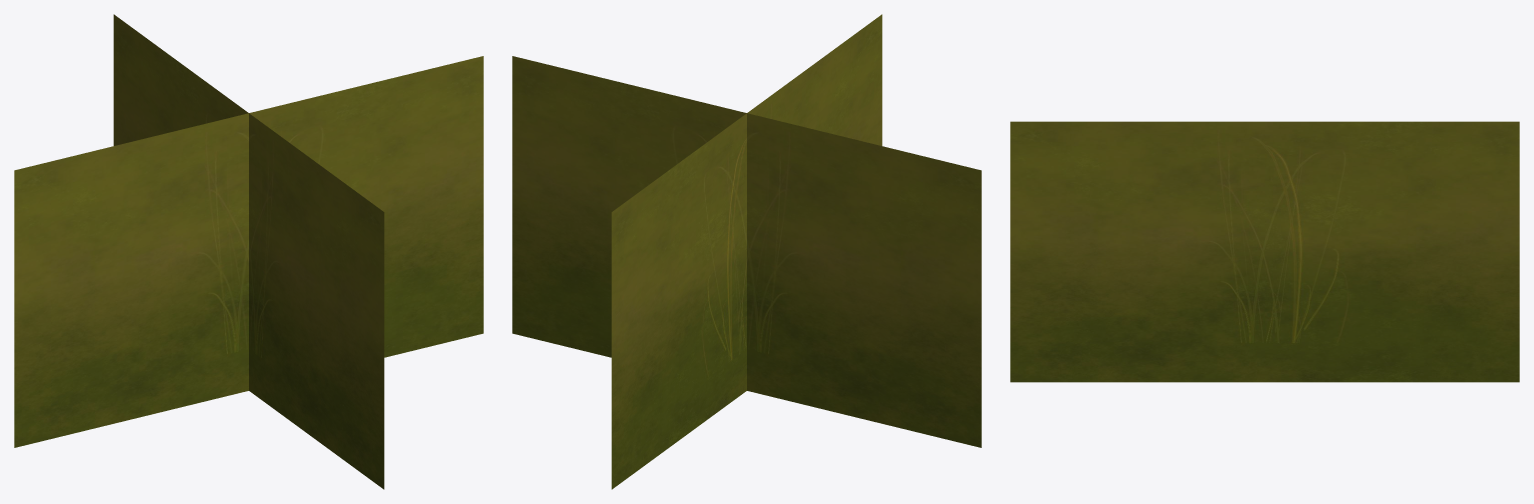
File: grass_project.glb
The picture shows the model from 3 angles, left to right: view 1: azimuth 30°, elevation 25°; view 2: azimuth 150°, elevation 25°; view 3: azimuth 270°, elevation 25°; orthographic projection. The views are drawn at different scales.
Parts seen in each view (by area): view 1: Plane; view 2: Plane; view 3: Plane.
Part boxes in pixels (x1=…): Plane: x1=14, y1=14, x2=483, y2=489; Plane: x1=512, y1=14, x2=981, y2=489; Plane: x1=1010, y1=121, x2=1519, y2=382.
Size of the model in its own units: 3.54 by 2 by 3.54.
Materials: 1 (1 with a texture image).
